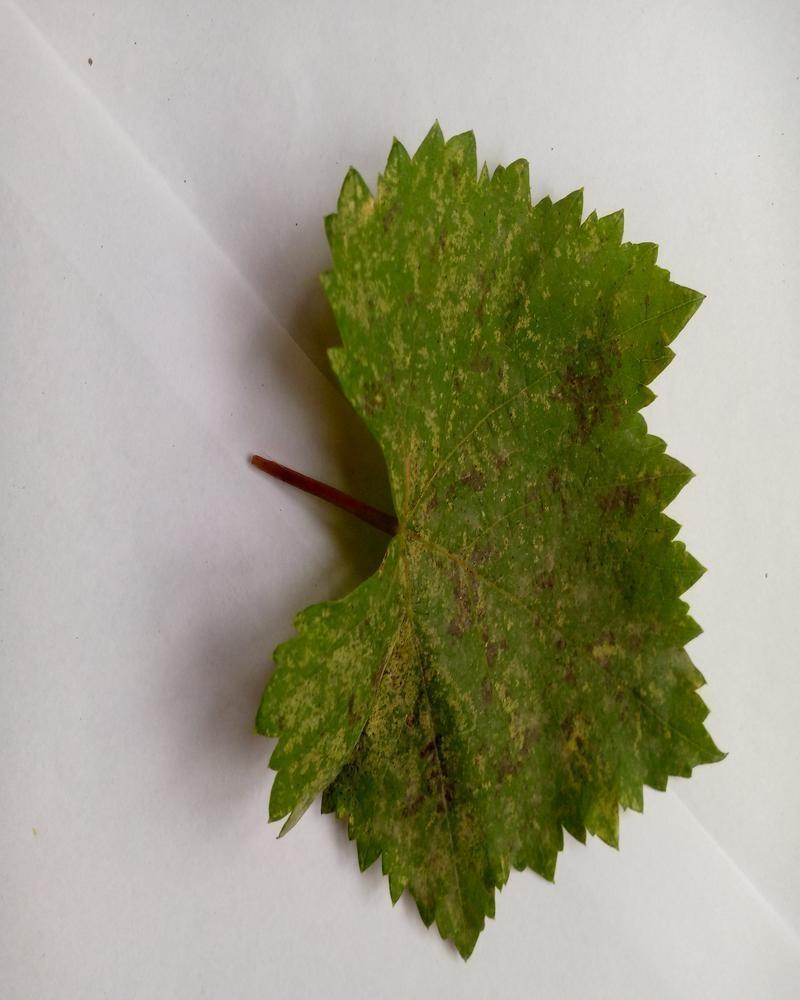Powdery-Mildew: (264, 624, 516, 874), (378, 357, 524, 625), (323, 156, 513, 321), (588, 464, 702, 737), (500, 592, 628, 793), (533, 293, 649, 460)
